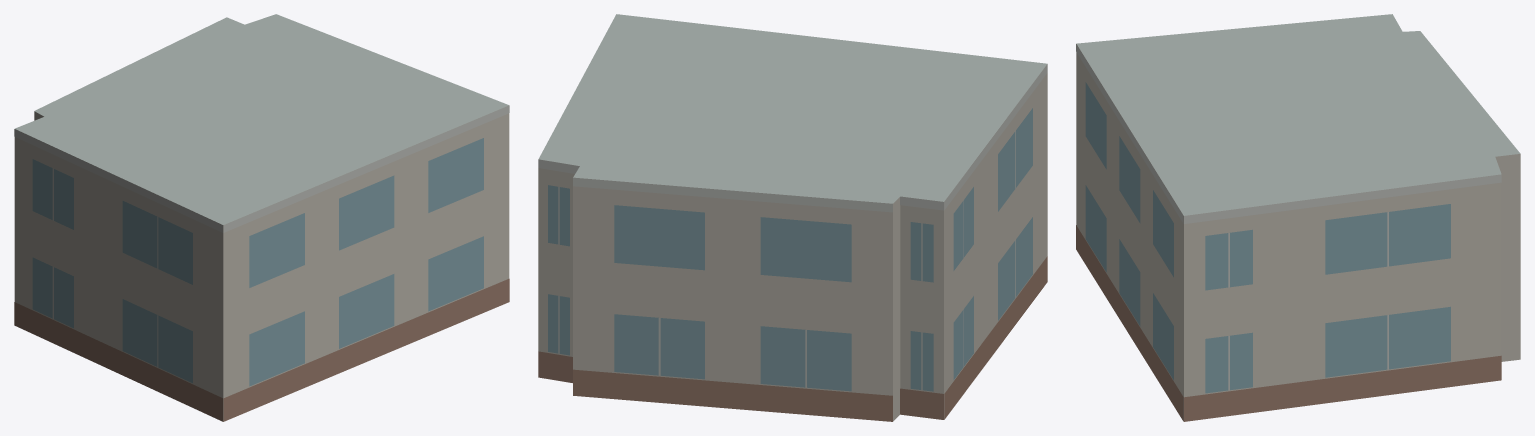
Rendered from survey-upis-32680236.glb.
3 renders of one model, left to right at view 1: azimuth 30°, elevation 25°; view 2: azimuth 150°, elevation 25°; view 3: azimuth 270°, elevation 25°, orthographic. The views are drawn at different scales.
Parts seen in each view (by area): view 1: survey-upis-32680236.tmp; view 2: survey-upis-32680236.tmp; view 3: survey-upis-32680236.tmp.
Part boxes in pixels (box(x1,y1,x2,y2)): survey-upis-32680236.tmp: box(14, 14, 509, 421); survey-upis-32680236.tmp: box(538, 14, 1047, 421); survey-upis-32680236.tmp: box(1076, 14, 1520, 421).
Size of the model in its own units: 12.84 by 6.1 by 11.94.
